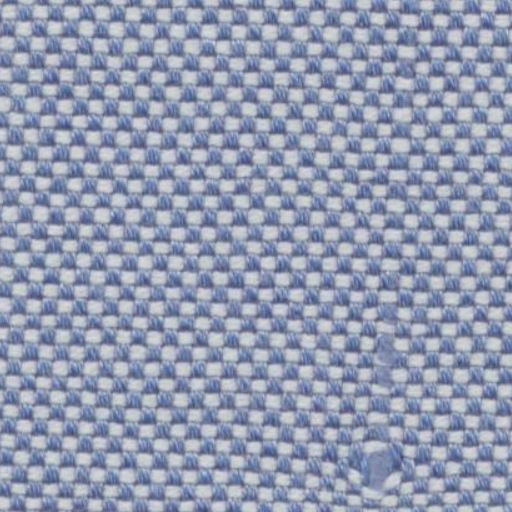PoDong: (328, 430, 434, 502)
